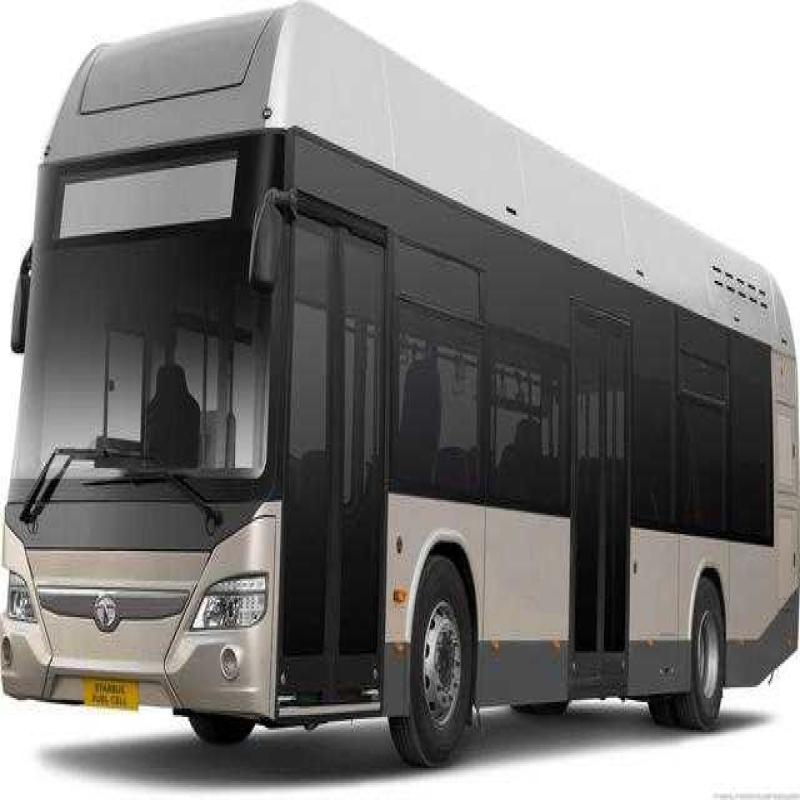bus: (19, 11, 788, 727)
